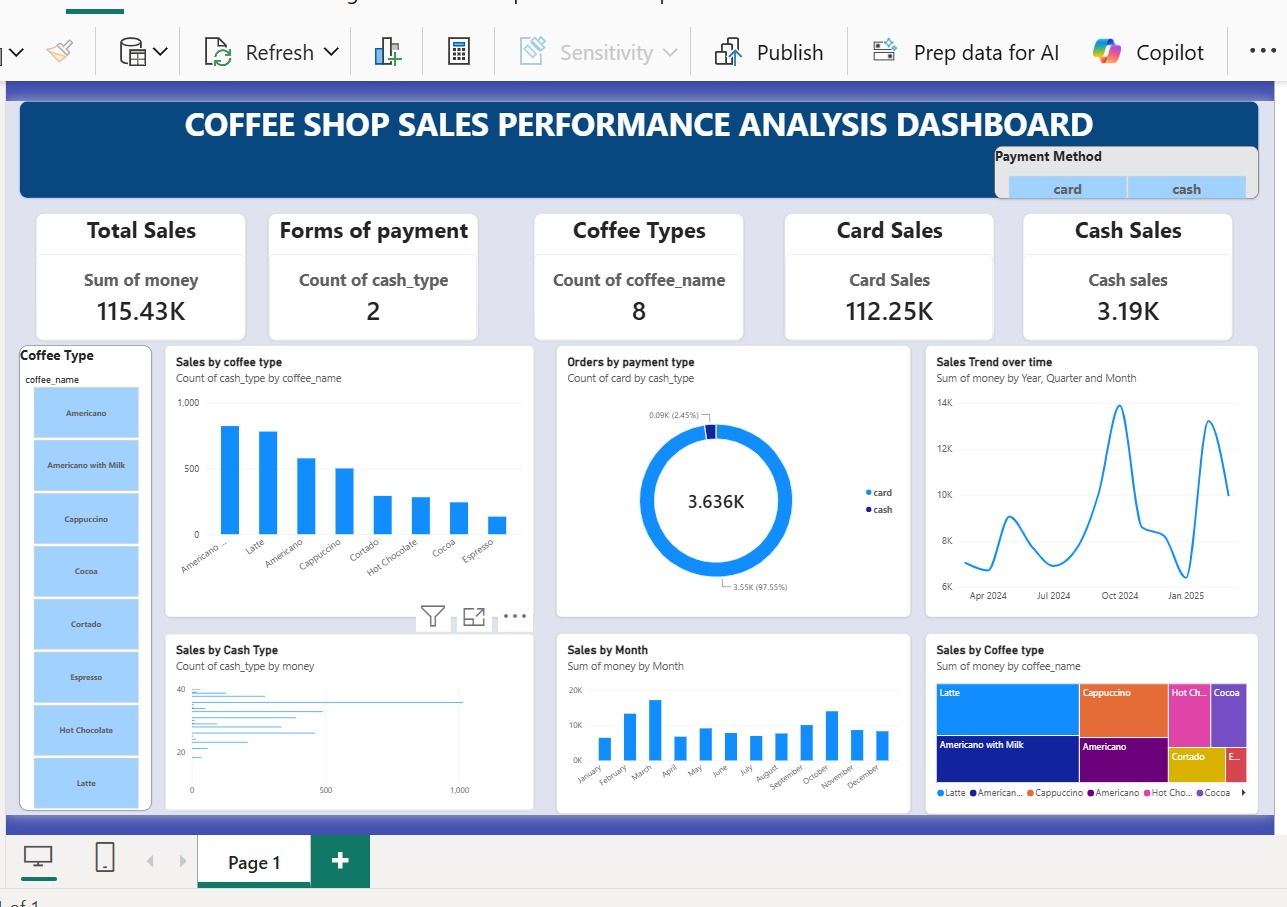

What the dashboard file says about the page in this screenshot:
{"tool":"powerbi","page":{"name":"Page 1","canvas":[1920,1080],"ordinal":0},"visuals":[{"type":"textbox","box":[19.8,0,1876.5,147.4],"z":0},{"type":"cardVisual","title":"Total Sales","fields":{"Data":["Sum(Coffee Shop Sales Performance Analysis.money)"]},"box":[45.4,170.1,317.5,192.8],"z":1},{"type":"cardVisual","title":"Coffee Types","fields":{"Data":["Count(Coffee Shop Sales Performance Analysis.coffee_name)"]},"box":[799.4,170.1,317.5,192.8],"z":3},{"type":"cardVisual","title":"Card Sales","fields":{"Data":["Coffee Shop Sales Performance Analysis.Card Sales"]},"box":[1179.2,170.1,317.5,192.8],"z":4},{"type":"cardVisual","title":"Cash Sales","fields":{"Data":["Coffee Shop Sales Performance Analysis.Cash sales"]},"box":[1539.2,170.1,317.5,192.8],"z":5},{"type":"cardVisual","title":"Forms of payment","fields":{"Data":["Count(Coffee Shop Sales Performance Analysis.cash_type)"]},"box":[396.9,170.1,317.5,192.8],"z":6},{"type":"columnChart","title":"Sales by coffee type","fields":{"Category":["Coffee Shop Sales Performance Analysis.coffee_name"],"Y":["CountNonNull(Coffee Shop Sales Performance Analysis.cash_type)"]},"box":[240.8,370.2,558.7,411.1],"z":7},{"type":"donutChart","title":"Orders by payment type","fields":{"Category":["Coffee Shop Sales Performance Analysis.cash_type"],"Y":["CountNonNull(Coffee Shop Sales Performance Analysis.card)"]},"box":[833.6,370.2,536,411.1],"z":8},{"type":"lineChart","title":"Sales Trend over time","fields":{"Y":["Sum(Coffee Shop Sales Performance Analysis.money)"],"Category":["Coffee Shop Sales Performance Analysis.date.Variation.Date Hierarchy.Year","Coffee Shop Sales Performance Analysis.date.Variation.Date Hierarchy.Quarter","Coffee Shop Sales Performance Analysis.date.Variation.Date Hierarchy.Month"]},"box":[1392.3,370.2,504.2,411.1],"z":9},{"type":"barChart","title":"Sales by Cash Type","fields":{"Category":["Coffee Shop Sales Performance Analysis.money"],"Y":["CountNonNull(Coffee Shop Sales Performance Analysis.cash_type)"]},"box":[240.8,806.3,558.7,268],"z":10},{"type":"clusteredColumnChart","title":"Sales by Month","fields":{"Category":["Coffee Shop Sales Performance Analysis.date.Variation.Date Hierarchy.Month"],"Y":["Sum(Coffee Shop Sales Performance Analysis.money)"]},"box":[833.6,806.3,536,272.6],"z":11},{"type":"treemap","title":"Sales by Coffee type","fields":{"Group":["Coffee Shop Sales Performance Analysis.coffee_name"],"Values":["Sum(Coffee Shop Sales Performance Analysis.money)"]},"box":[1392,806,504,273],"z":12},{"type":"slicer","title":"Coffee Type","fields":{"Values":["Coffee Shop Sales Performance Analysis.coffee_name"]},"box":[20.4,370.2,199.9,704.1],"z":13},{"type":"slicer","title":"Payment Method","fields":{"Values":["Coffee Shop Sales Performance Analysis.cash_type"]},"box":[1496.8,68.1,400,80],"z":14}]}

Visuals, with their boxes on the page's 1920x1080 design canvas (x1, y1, x2, y2). These are canvas units, not pixel positions in the 1287x907 screenshot, which may show the page scaled, cropped or inside an application window:
textbox: region(20, 0, 1896, 147)
"Total Sales" cardVisual: region(45, 170, 363, 363)
"Coffee Types" cardVisual: region(799, 170, 1117, 363)
"Card Sales" cardVisual: region(1179, 170, 1497, 363)
"Cash Sales" cardVisual: region(1539, 170, 1857, 363)
"Forms of payment" cardVisual: region(397, 170, 714, 363)
"Sales by coffee type" columnChart: region(241, 370, 800, 781)
"Orders by payment type" donutChart: region(834, 370, 1370, 781)
"Sales Trend over time" lineChart: region(1392, 370, 1896, 781)
"Sales by Cash Type" barChart: region(241, 806, 800, 1074)
"Sales by Month" clusteredColumnChart: region(834, 806, 1370, 1079)
"Sales by Coffee type" treemap: region(1392, 806, 1896, 1079)
"Coffee Type" slicer: region(20, 370, 220, 1074)
"Payment Method" slicer: region(1497, 68, 1897, 148)
